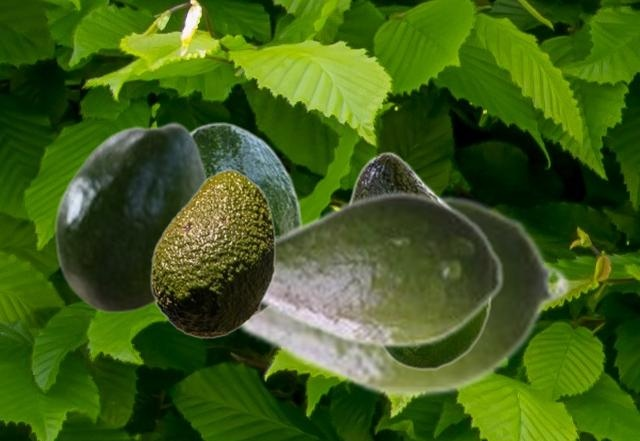avocado: (238, 188, 571, 400), (262, 190, 504, 349), (347, 151, 491, 369), (53, 121, 209, 313), (190, 122, 301, 321), (150, 169, 274, 338)
